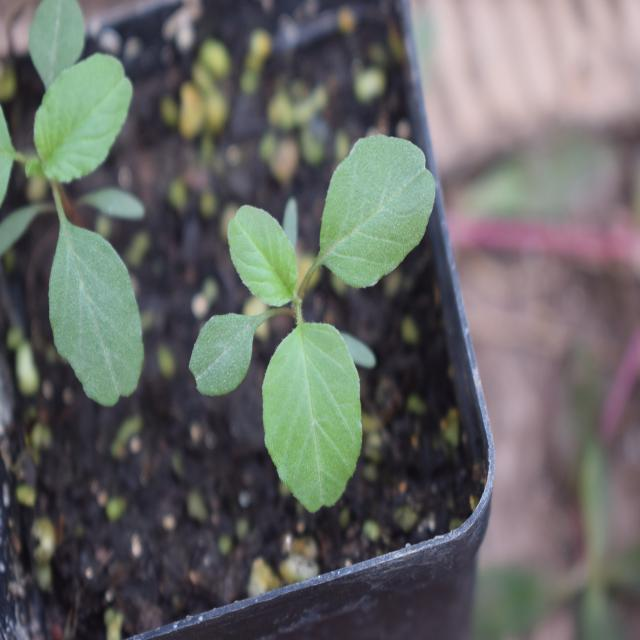pigweed: (182, 126, 454, 501), (0, 8, 153, 404)
